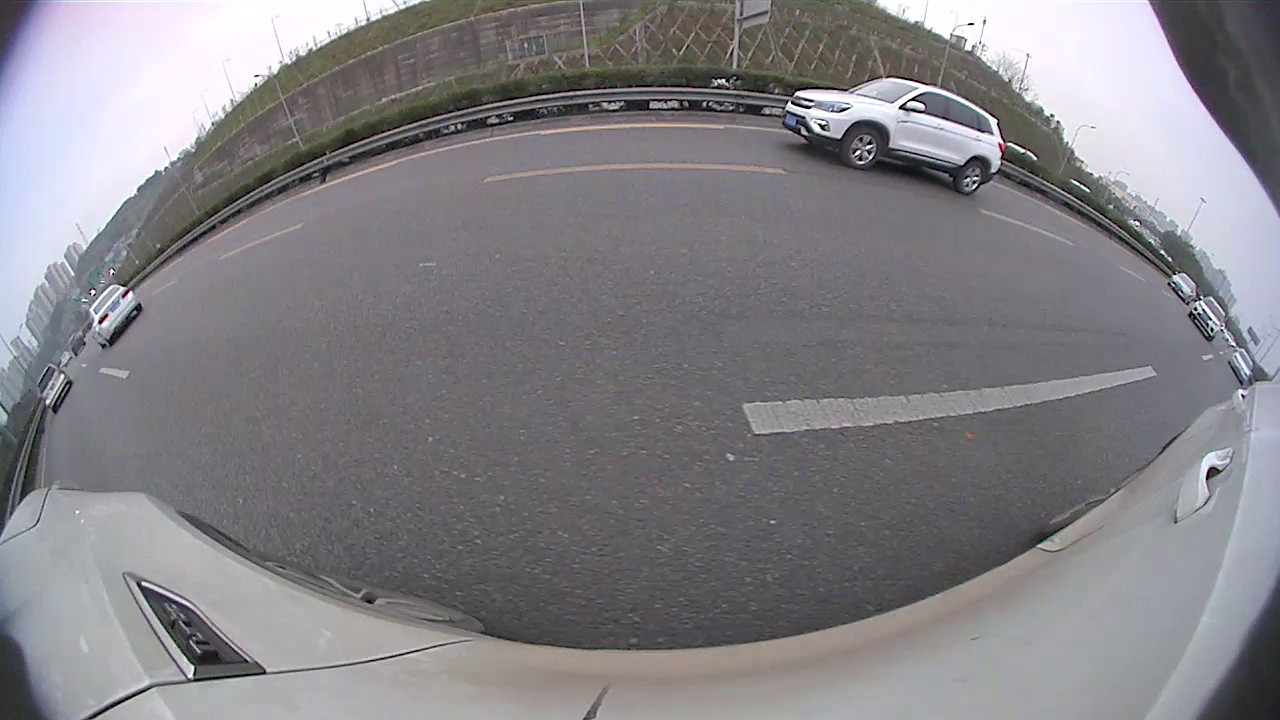car: (780, 74, 1008, 196), (86, 282, 143, 348), (35, 361, 74, 417), (1189, 293, 1227, 343), (1166, 269, 1199, 306), (1227, 348, 1256, 384)
front: (846, 127, 879, 169)
rear: (959, 160, 986, 193)
